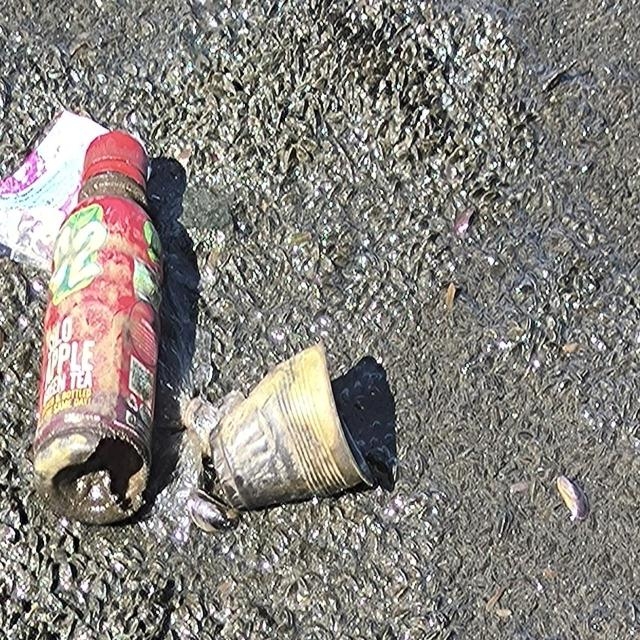plastic_waste: (31, 131, 167, 529), (209, 338, 380, 516)
